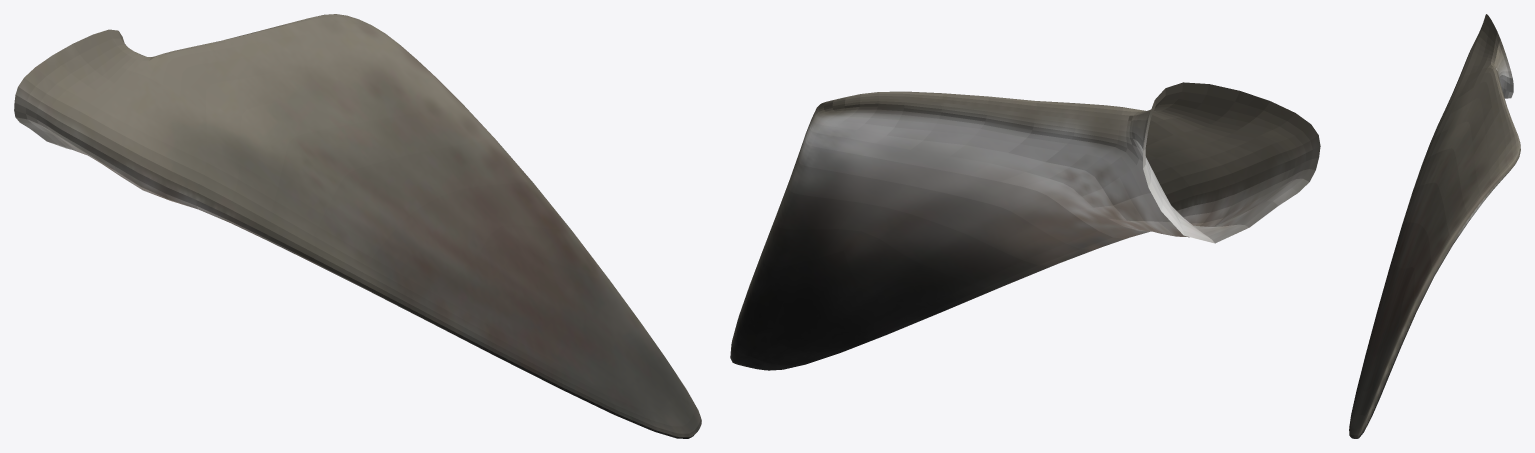
File: aleta1.obj
3 views of the same model, side by side, from view 1: azimuth 30°, elevation 25°; view 2: azimuth 150°, elevation 25°; view 3: azimuth 270°, elevation 25° (orthographic). The views are drawn at different scales.
Parts seen in each view (by area): view 1: polySurface1 _Shark_v2; view 2: polySurface1 _Shark_v2; view 3: polySurface1 _Shark_v2.
Part boxes in pixels (x1,y1,x2,y2): polySurface1 _Shark_v2: (14, 14, 701, 438); polySurface1 _Shark_v2: (730, 82, 1320, 370); polySurface1 _Shark_v2: (1349, 14, 1520, 438).
Size of the model in its own units: 1.77 by 1.27 by 0.7371.
1 material, 1 textured.
